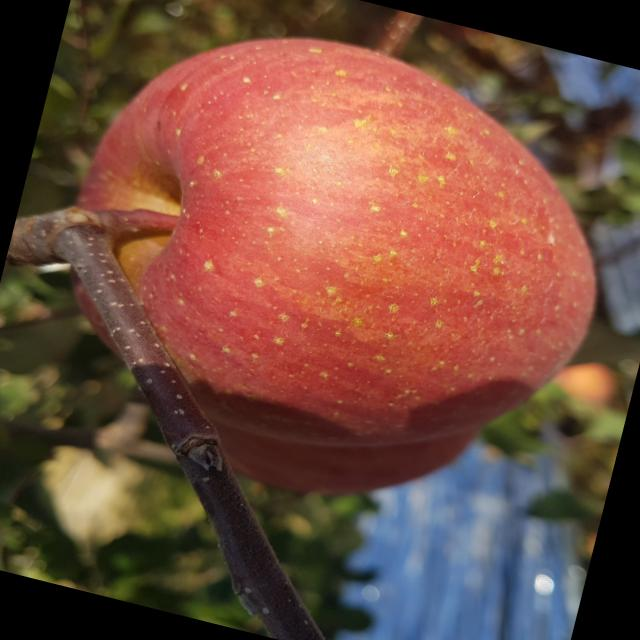fresh: (14, 1, 640, 527)
